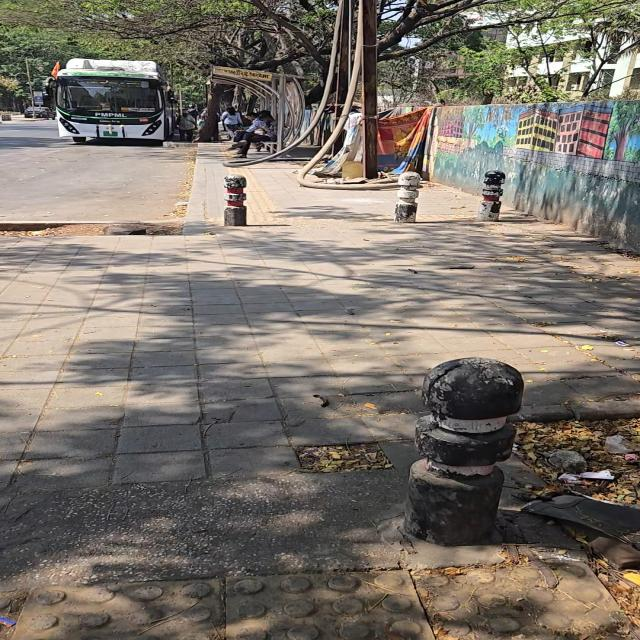obstacle: (405, 358, 523, 545), (360, 0, 377, 178), (335, 0, 352, 123), (478, 171, 505, 221), (395, 172, 421, 222), (224, 175, 246, 225), (25, 58, 35, 117), (263, 142, 277, 153), (179, 89, 183, 114)
person: (231, 111, 276, 157), (233, 112, 257, 142), (221, 106, 242, 139), (178, 110, 196, 142)
